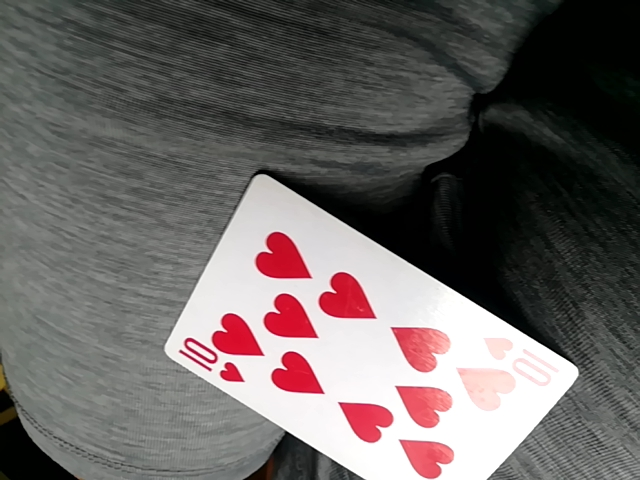hx 10: (162, 169, 584, 478)
